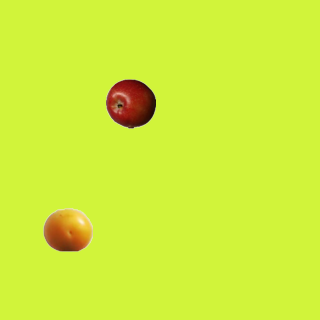Apple Braeburn: (105, 78, 155, 128)
Cherry Wax Yellow: (42, 204, 92, 254)
